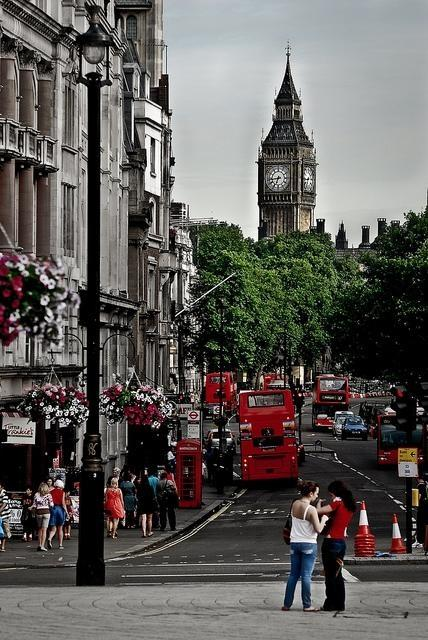bus: (240, 388, 302, 482), (377, 416, 425, 466), (310, 375, 349, 427), (206, 372, 235, 413), (240, 374, 276, 392)
car: (204, 428, 237, 453), (342, 416, 368, 441), (332, 411, 354, 434), (332, 416, 351, 436), (296, 436, 306, 464)
